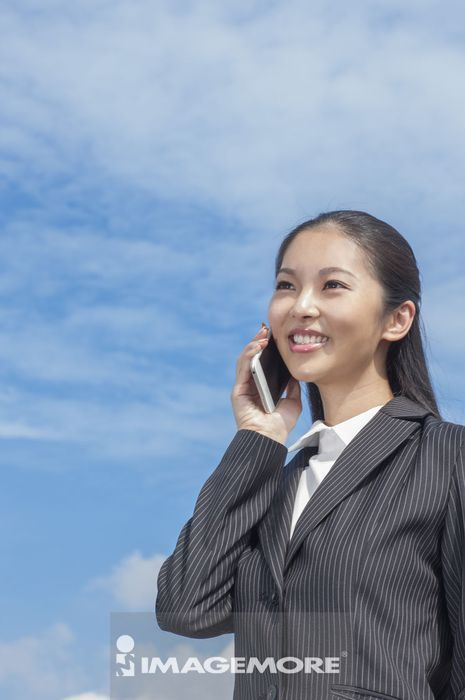phone: (250, 332, 291, 414)
talk: (230, 260, 358, 447)
